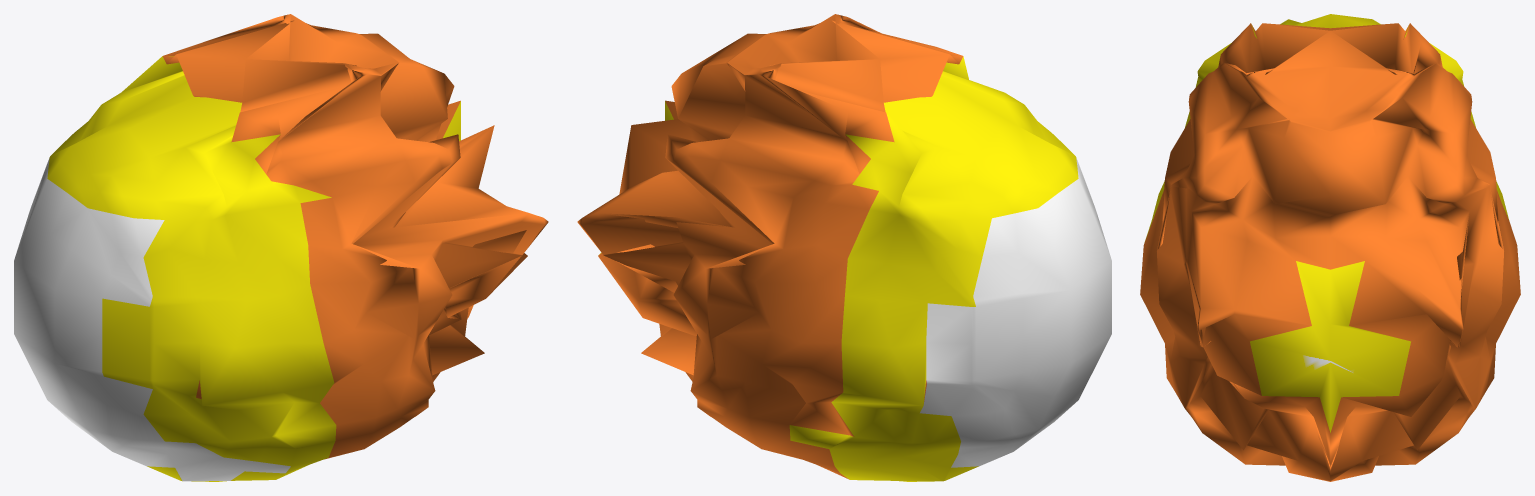
File: muzflash.fbx
3 views of the same model, side by side, from view 1: azimuth 30°, elevation 25°; view 2: azimuth 150°, elevation 25°; view 3: azimuth 270°, elevation 25° (orthographic). The views are drawn at different scales.
Parts seen in each view (by area): view 1: Mball.001; view 2: Mball.001; view 3: Mball.001.
Part boxes in pixels (bbox=[...]): Mball.001: bbox=[14, 14, 548, 481]; Mball.001: bbox=[577, 14, 1111, 481]; Mball.001: bbox=[1140, 14, 1520, 481].
Bounding box in the file's own units: 261 × 215 × 182.
